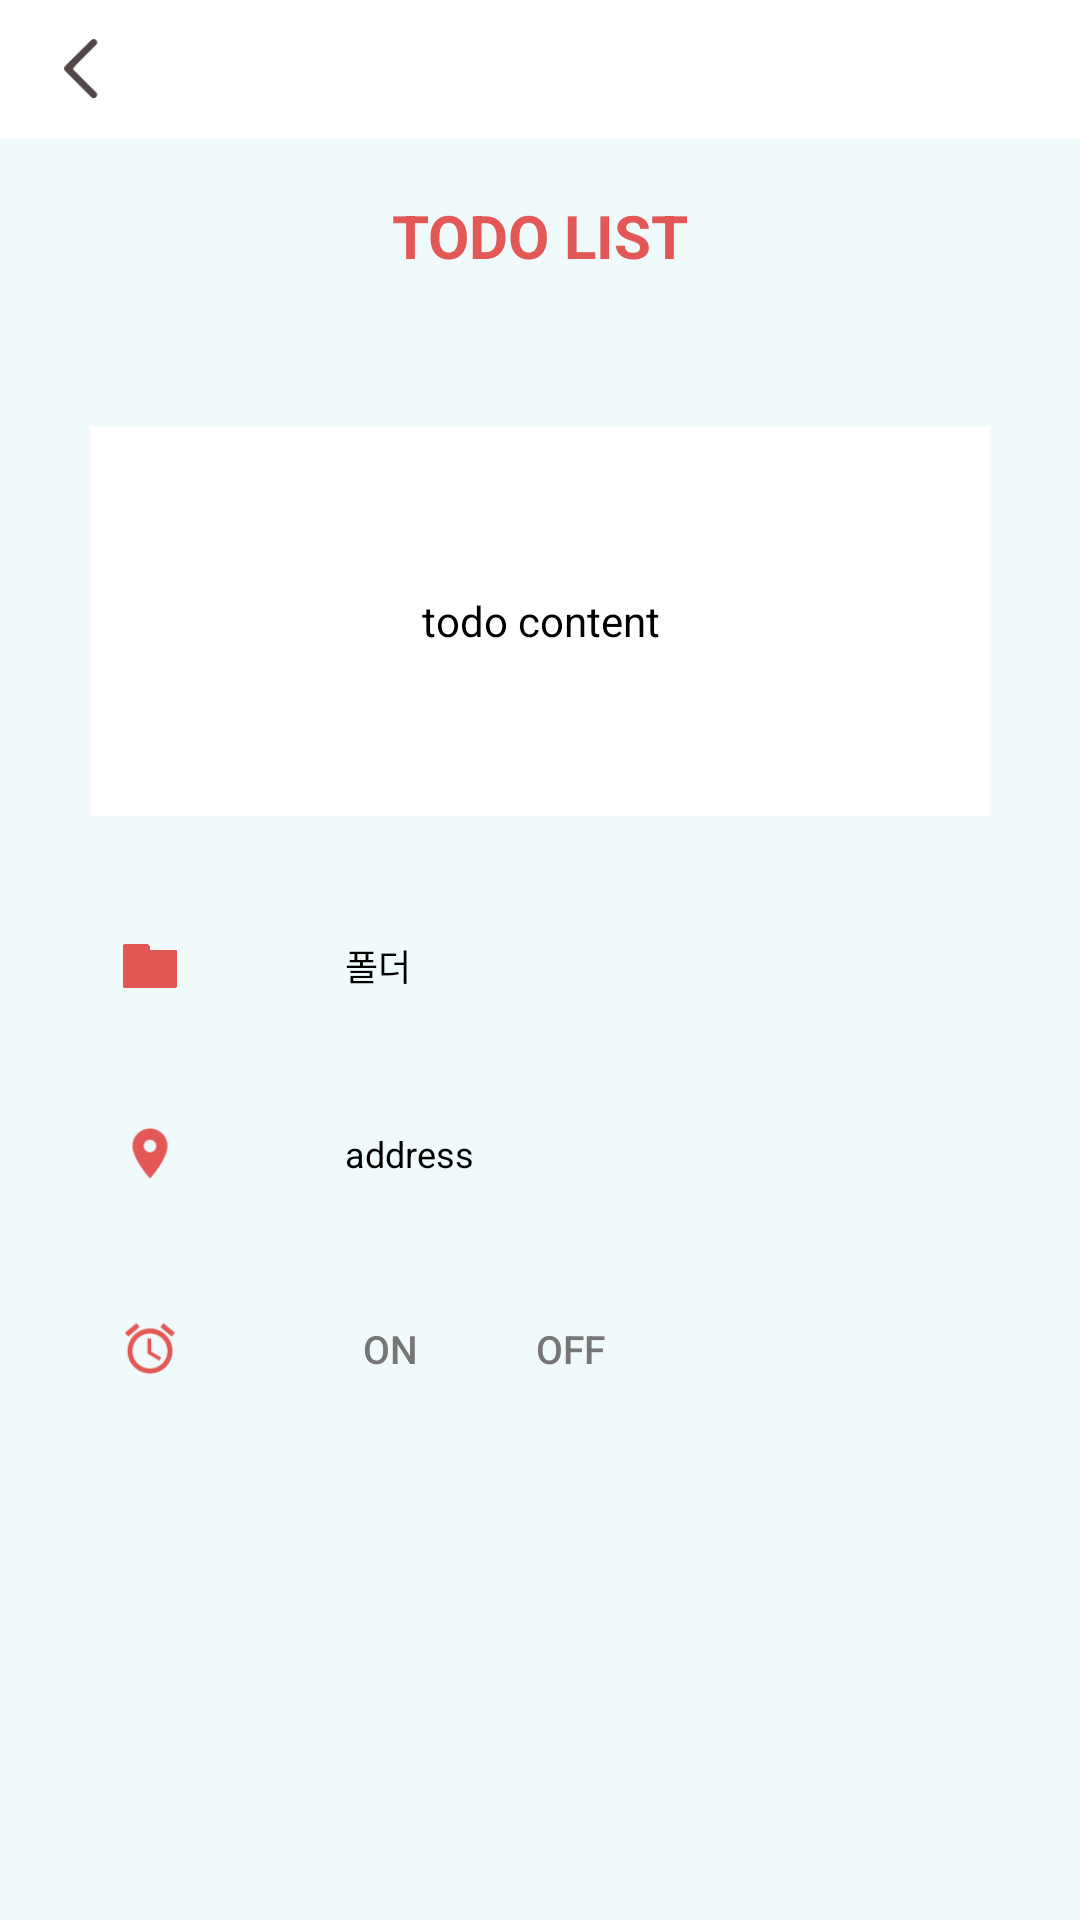

Named icons in this screenshot (1080*1920) and their bounding boxes, (x1, y1, x2, y2):
alarm: (125, 1323, 175, 1374)
back: (64, 39, 98, 98)
location: (132, 1128, 168, 1178)
